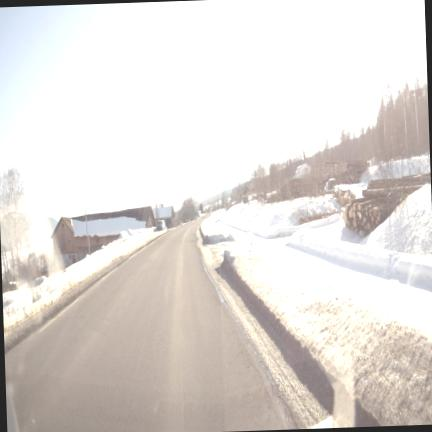Road: (5, 223, 285, 431)
